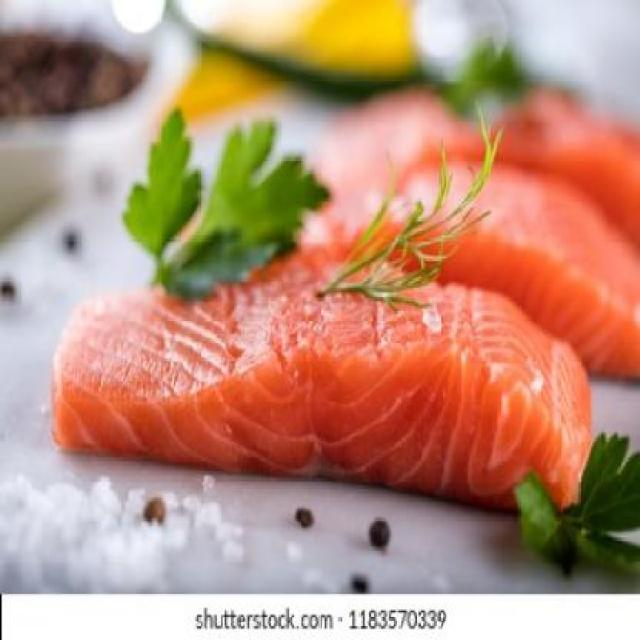salmon: (31, 240, 618, 539), (274, 108, 640, 402)
